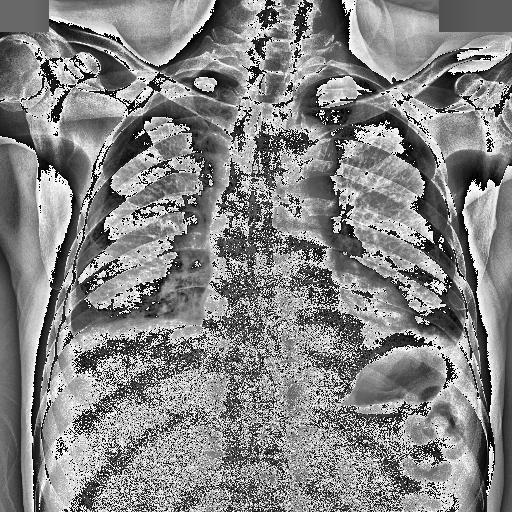0- Aortic enlargement: (267, 116, 338, 208), (279, 108, 337, 204), (268, 115, 338, 180)
10- Pleural effusion: (434, 307, 474, 356), (53, 278, 75, 359), (442, 320, 472, 372), (60, 298, 86, 350), (54, 306, 86, 348), (448, 325, 476, 361)
11- Pleural thickening: (146, 68, 226, 98), (434, 307, 474, 356), (53, 278, 75, 359), (442, 320, 472, 372), (60, 298, 86, 350), (54, 306, 86, 348), (448, 325, 476, 361)
3- Cardiomegaly: (196, 282, 420, 355), (197, 284, 421, 331)
9- Other lesion: (220, 74, 283, 222)
